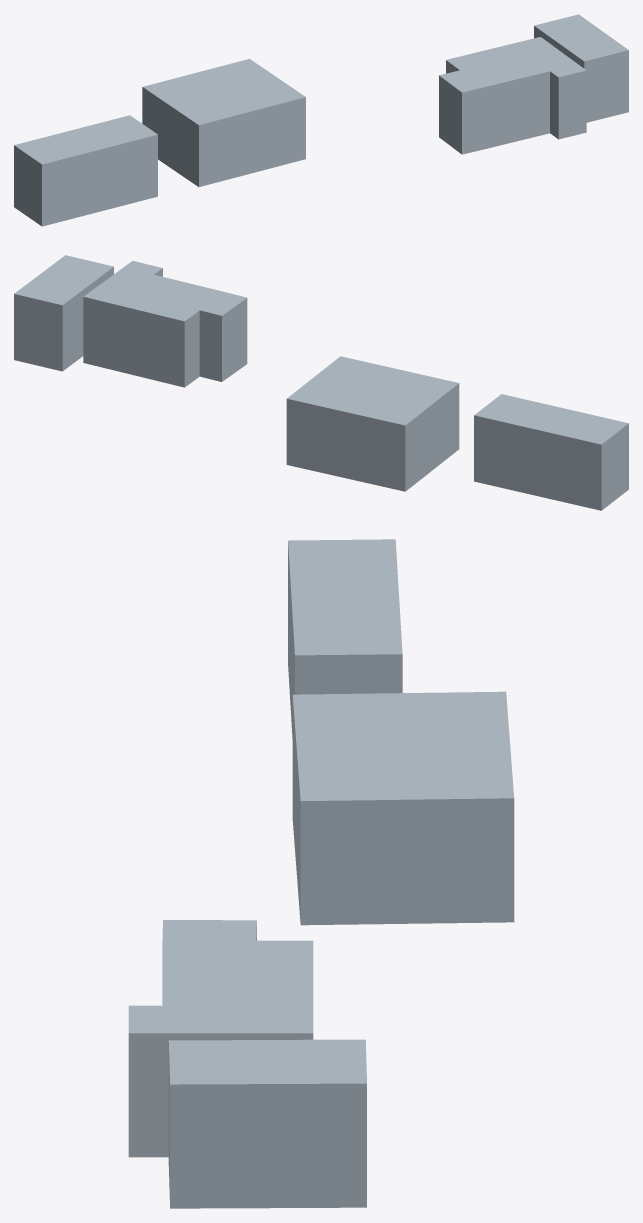
3 views of the same model, one above another, from view 1: azimuth 30°, elevation 25°; view 2: azimuth 150°, elevation 25°; view 3: azimuth 270°, elevation 25° (orthographic). The views are drawn at different scales.
Size of what is drawn, in the model's own units: 75.37 by 8 by 22.52.
